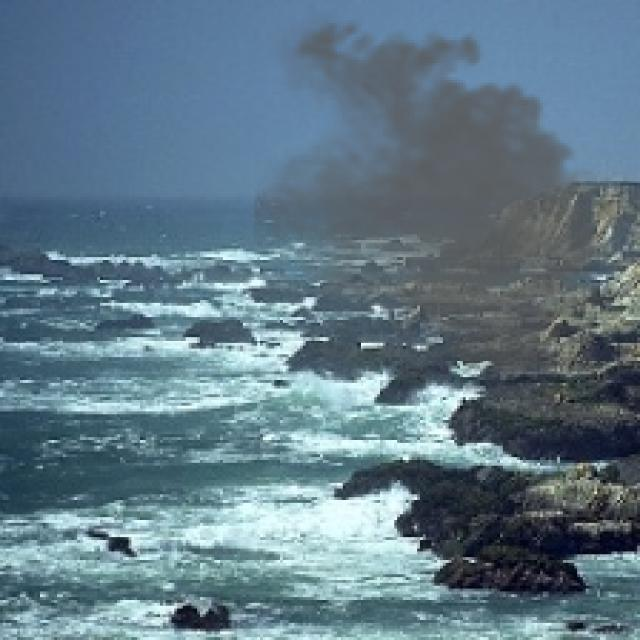Smoke: (254, 8, 629, 383)
